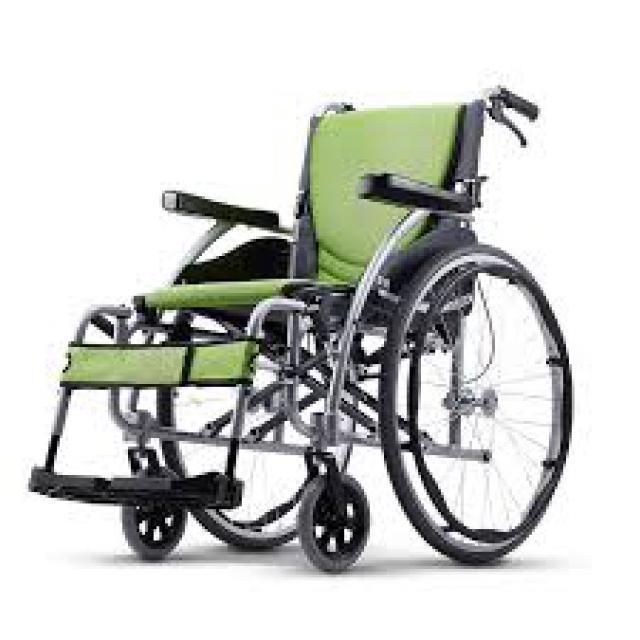wheelchairs: (38, 91, 564, 559)
